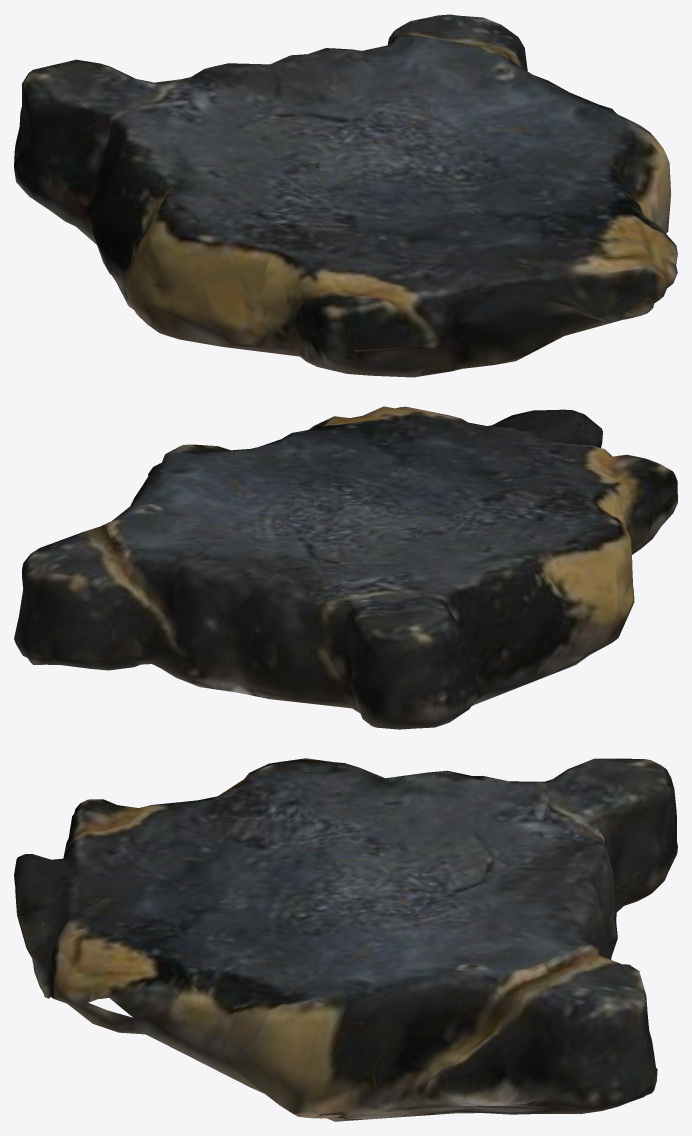
Rendered from hall.glb.
The picture shows the model from 3 angles, top to bottom: view 1: azimuth 30°, elevation 25°; view 2: azimuth 150°, elevation 25°; view 3: azimuth 270°, elevation 25°; orthographic projection. The views are drawn at different scales.
Bounding box in the file's own units: 0.4992 × 0.1436 × 0.557.
1 material, 1 textured.
